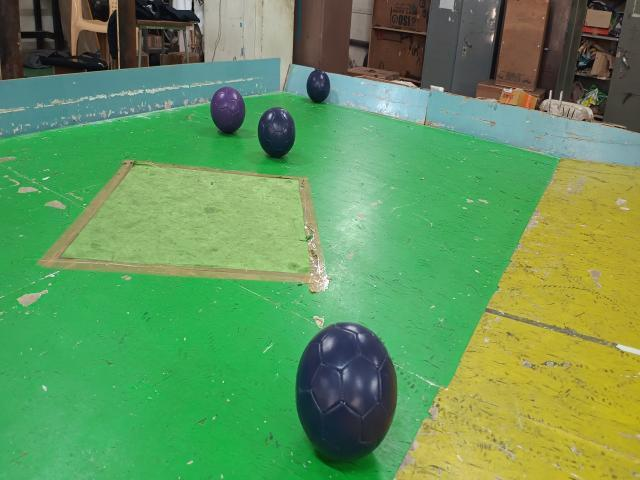jambhalya: (210, 87, 245, 133)
kaalyya: (296, 323, 398, 462), (258, 107, 295, 158), (306, 70, 330, 103)
